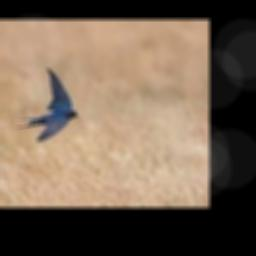Swallow: (17, 67, 78, 140)
